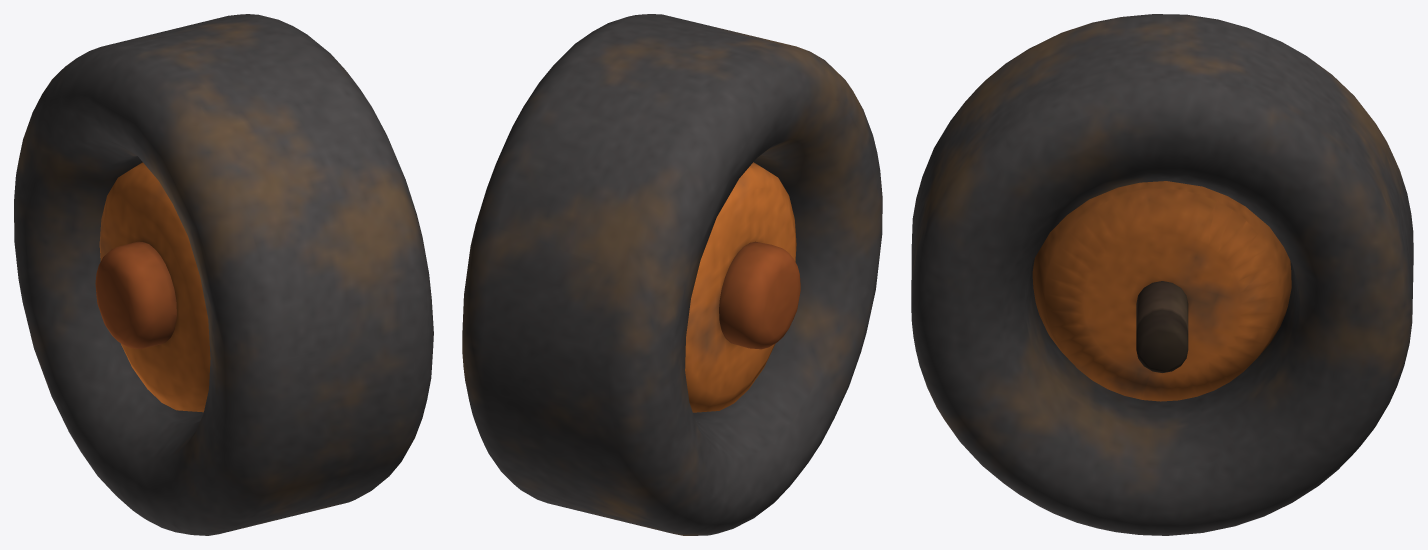
The picture shows the model from 3 angles, left to right: view 1: azimuth 30°, elevation 25°; view 2: azimuth 150°, elevation 25°; view 3: azimuth 270°, elevation 25°; orthographic projection.
Parts seen in each view (by area): view 1: wheel_FR; view 2: wheel_FR; view 3: wheel_FR.
Boxes of the visible parts, x1,y1,x2,y2 form: wheel_FR: [14, 14, 433, 535]; wheel_FR: [462, 14, 882, 535]; wheel_FR: [911, 14, 1413, 535].
Bounding box in the file's own units: 0.2064 × 0.3393 × 0.3393.
1 material, 1 textured.
